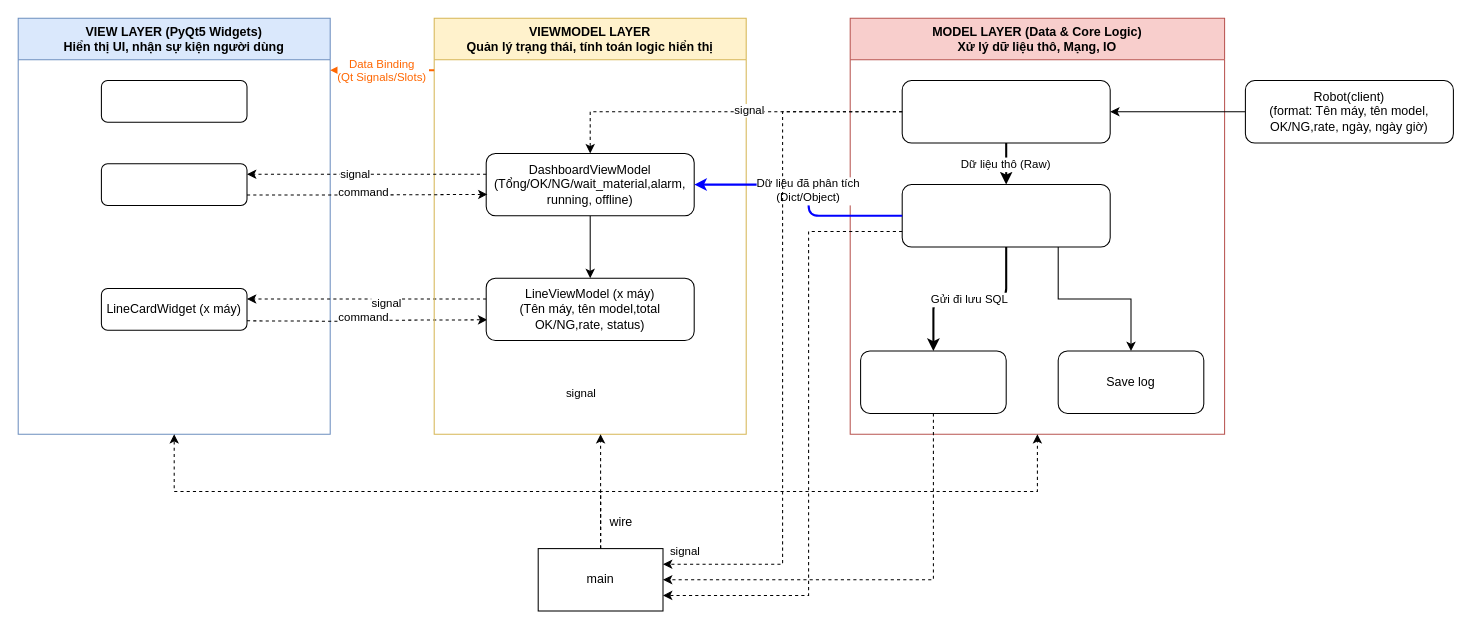
Image size: 1472x629. Some labels were removed from this diagram. The shapes that lost their labels are listed below. From the top down, each one's centre as x and y in pixels, then its label:
(173,101): MainWindow
(1005,111): TcpServerModel (Lắng nghe kết nối TCP)
(173,184): SummaryWidget
(1005,215): DataParserModel (Phân tích CSV)
(933,381): ApiPublisherModel (POST HTTP SQL Server)
